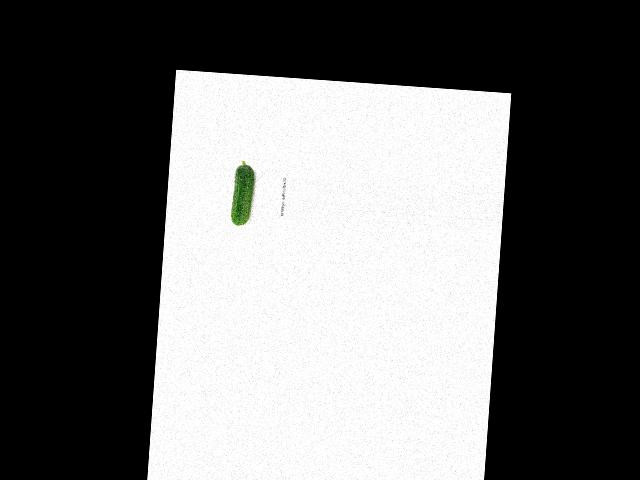cucumber: (230, 160, 255, 227)
